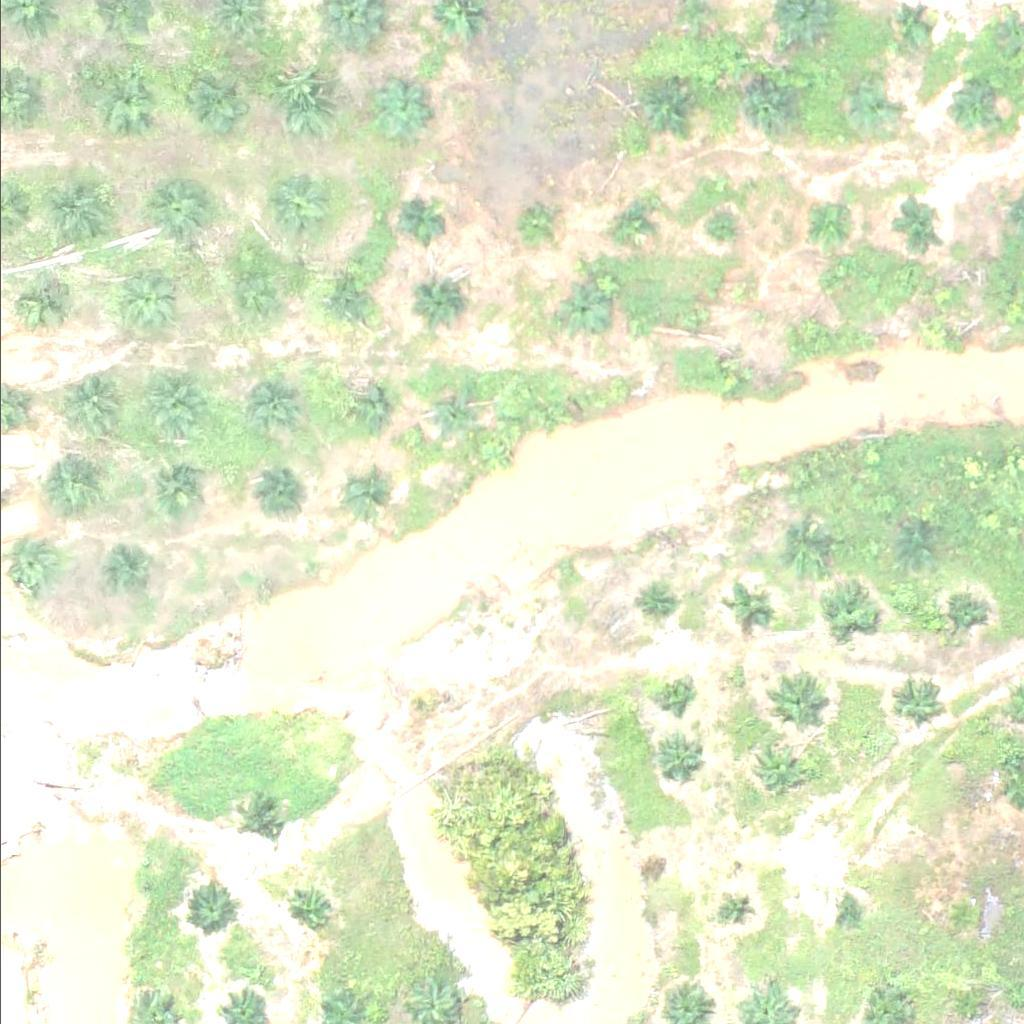Kelapa_Sawit: (212, 257, 275, 320), (236, 372, 299, 435), (836, 79, 899, 142), (139, 370, 202, 433), (94, 67, 157, 130), (43, 457, 106, 520), (58, 371, 121, 434), (747, 737, 810, 800), (180, 68, 243, 130), (265, 179, 328, 241), (367, 78, 430, 140), (48, 181, 111, 243), (144, 178, 207, 240), (106, 267, 169, 329), (8, 272, 71, 334), (148, 457, 211, 519), (267, 74, 330, 136), (765, 671, 828, 733), (741, 86, 792, 136), (638, 85, 689, 135), (606, 196, 657, 246), (951, 87, 1001, 137), (250, 473, 300, 523), (419, 280, 469, 330), (394, 198, 444, 248), (424, 387, 474, 437), (555, 286, 605, 336), (339, 383, 389, 433), (340, 469, 390, 519), (182, 882, 232, 932), (104, 551, 154, 601), (286, 885, 336, 935), (230, 794, 280, 844), (315, 277, 365, 327), (930, 588, 980, 638), (821, 586, 871, 636), (888, 675, 938, 725), (652, 735, 702, 785), (887, 200, 937, 250), (797, 198, 847, 248), (771, 524, 821, 574), (529, 395, 567, 433), (518, 207, 556, 245), (728, 585, 766, 623), (637, 586, 675, 624), (654, 673, 692, 711), (677, 299, 715, 337), (790, 309, 828, 347), (915, 315, 953, 353), (717, 892, 755, 929), (715, 363, 753, 400), (942, 896, 979, 934), (895, 526, 933, 563), (697, 209, 734, 246), (889, 7, 926, 44), (833, 898, 858, 923)
